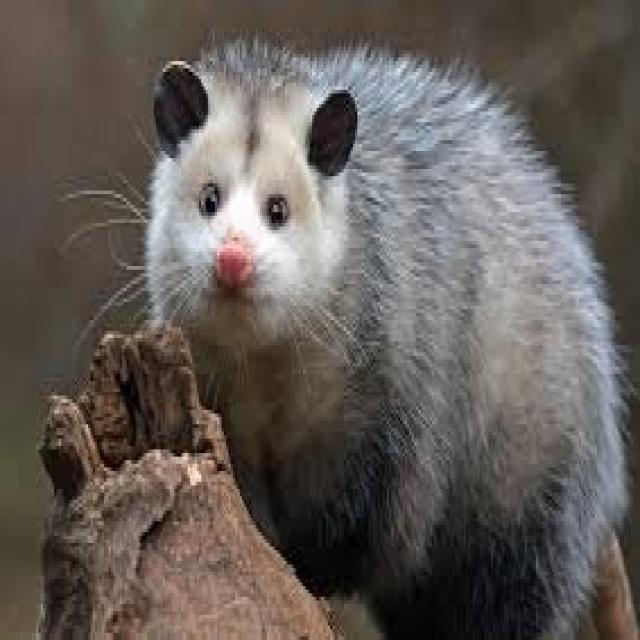Possum: (109, 25, 626, 632)
